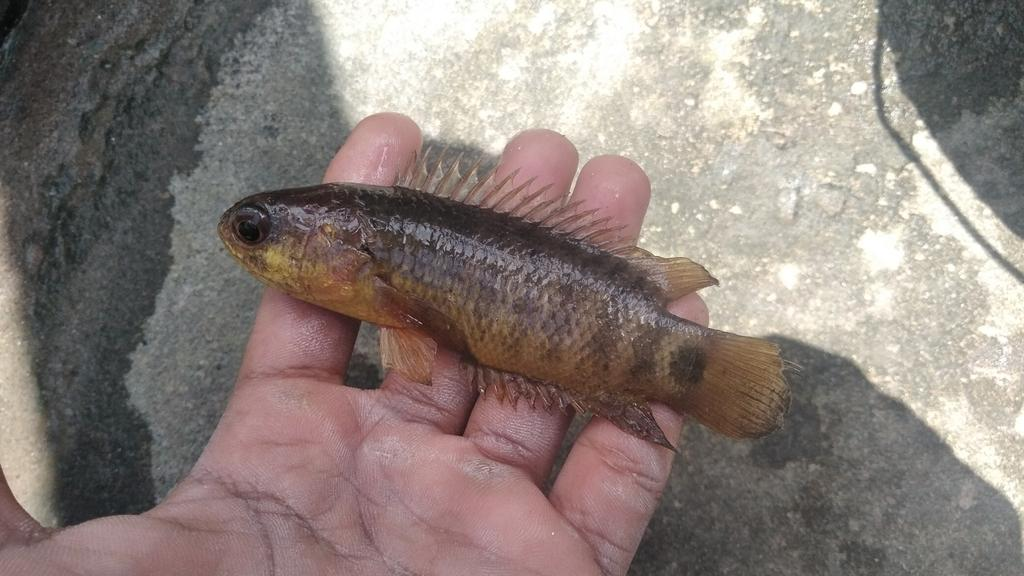Climbing Perch: (216, 139, 794, 453)
